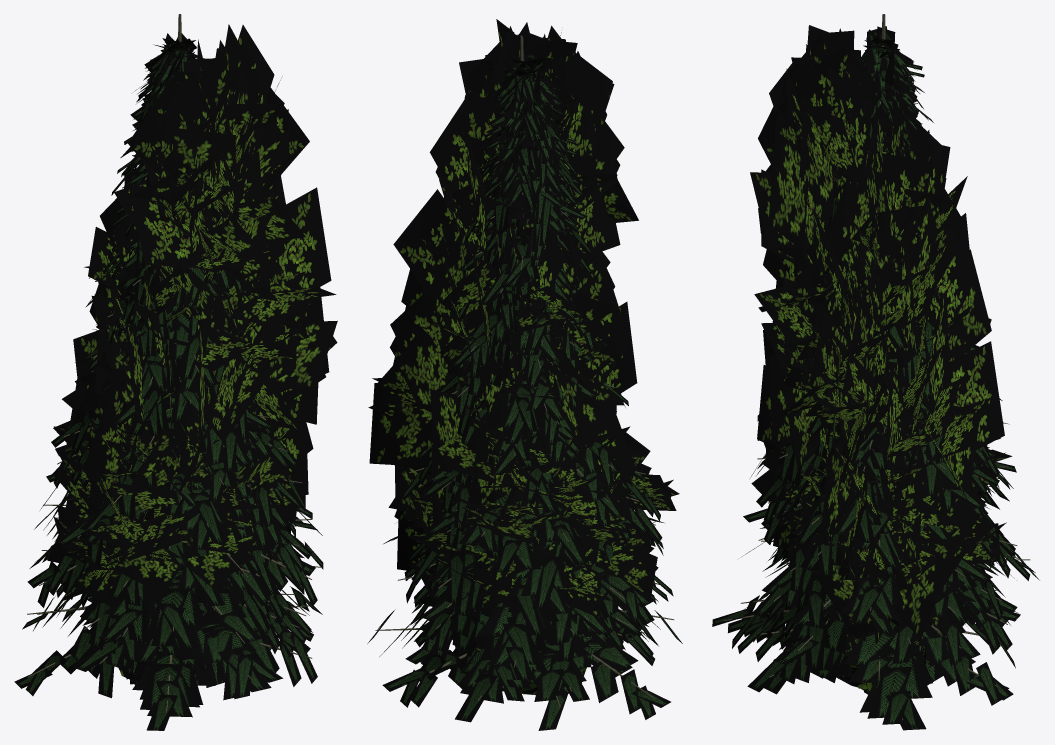
Rendered from vegetation.glb.
3 views of the same model, side by side, from view 1: azimuth 30°, elevation 25°; view 2: azimuth 150°, elevation 25°; view 3: azimuth 270°, elevation 25° (orthographic). The views are drawn at different scales.
Visible parts, largest first — view 1: AvenueTree, Conifer, RoundedTree; view 2: Conifer, AvenueTree, RoundedTree; view 3: AvenueTree, Conifer, RoundedTree, GableShrub.
Boxes of the visible parts, x1,y1,x2,y2 form: AvenueTree: (66, 24, 337, 613); Conifer: (14, 14, 323, 730); RoundedTree: (47, 391, 295, 606); Conifer: (367, 35, 682, 730); AvenueTree: (368, 19, 638, 623); RoundedTree: (388, 401, 679, 636); AvenueTree: (750, 25, 1009, 644); Conifer: (712, 14, 1039, 730); RoundedTree: (751, 398, 1012, 630); GableShrub: (836, 619, 936, 690).
Size of the model in its own units: 5.6 by 12 by 5.4.
4 materials, 4 textured.
